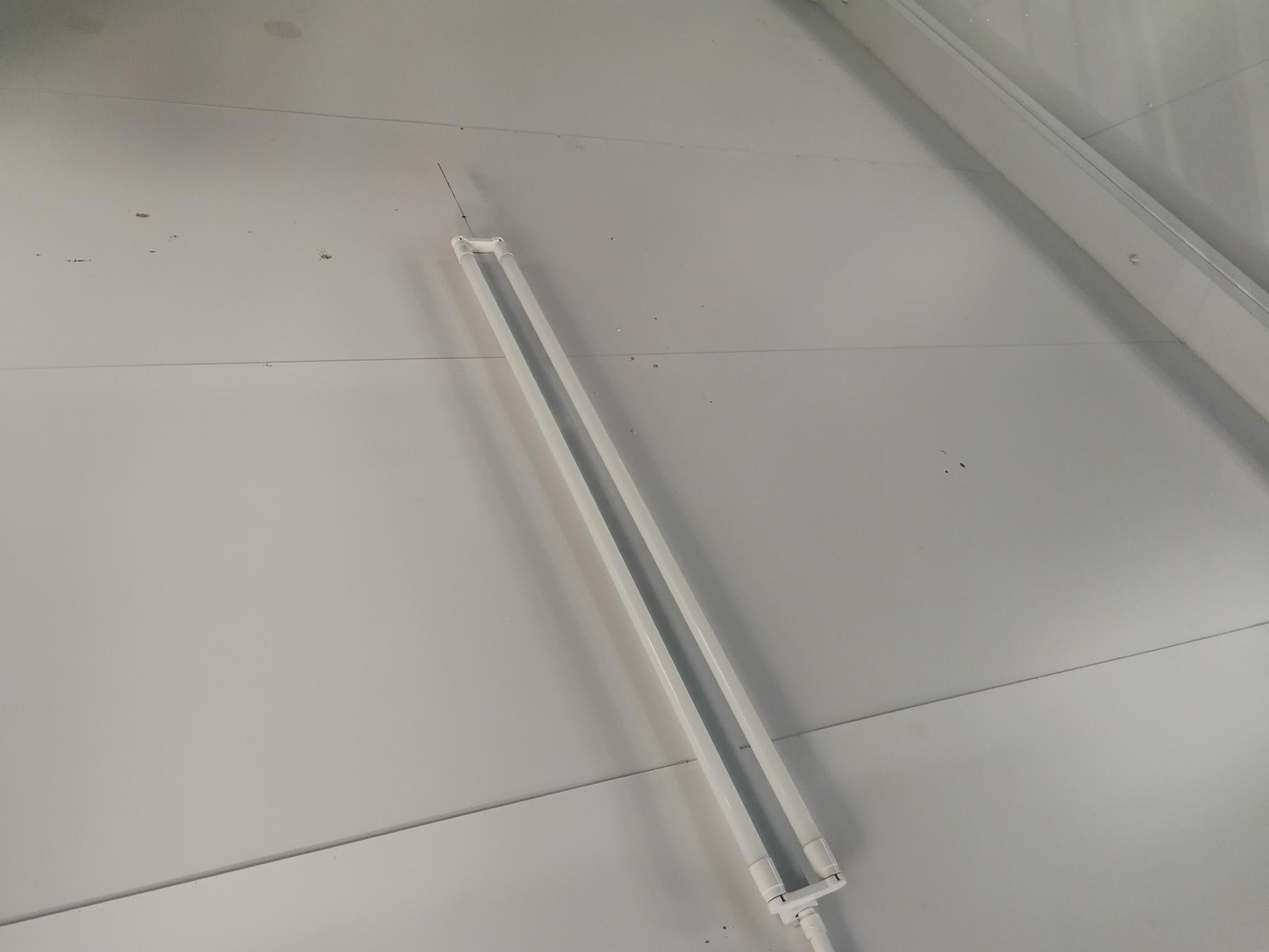light: (432, 230, 844, 925)
